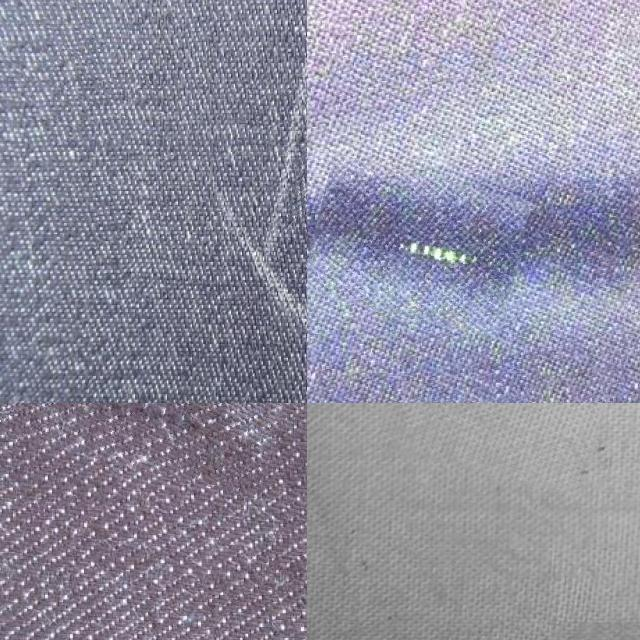Thread_other: (384, 403, 613, 486)
stains: (307, 165, 525, 329), (0, 403, 290, 478)
